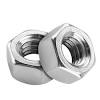Thread: (53, 26, 94, 77), (14, 33, 52, 66)
